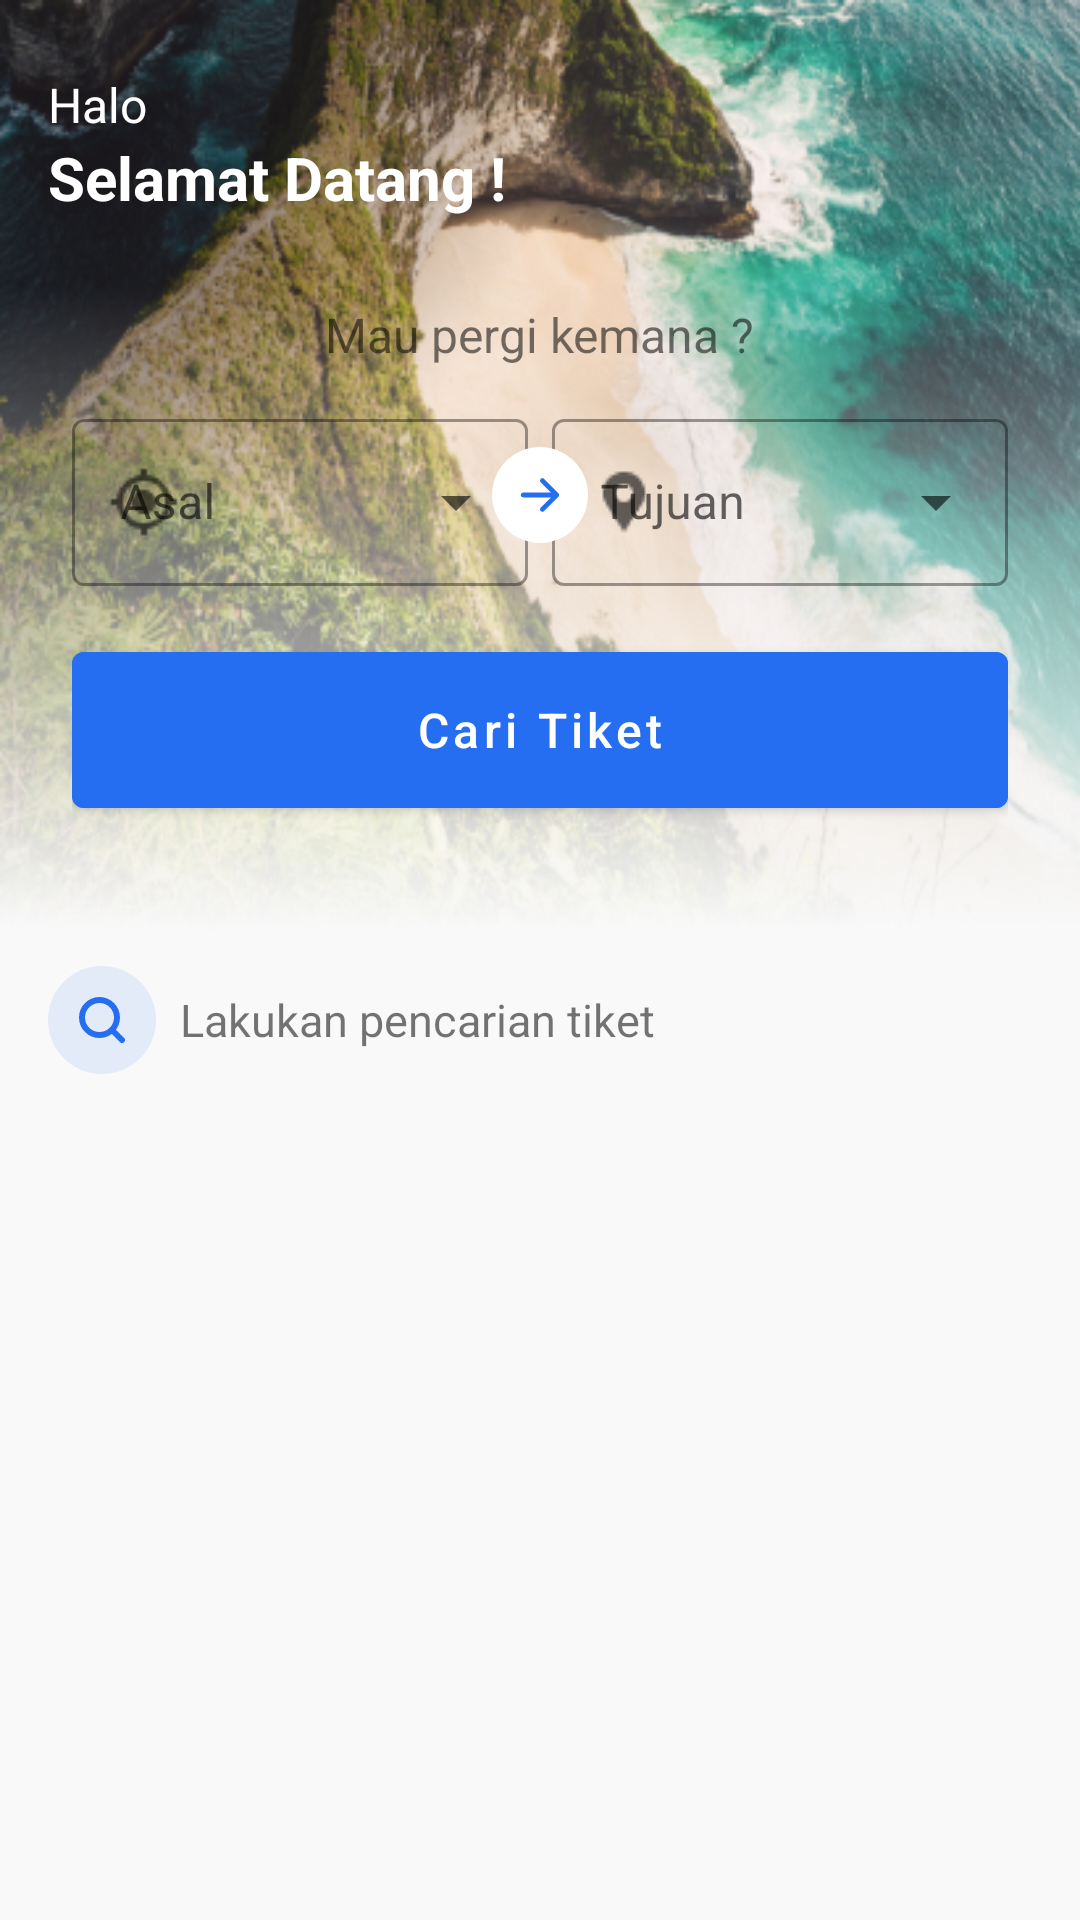

Icons on this 1080*1920 Android screen, each with its box as (x1, y1, x2, y2):
arrow: (492, 447, 588, 543)
